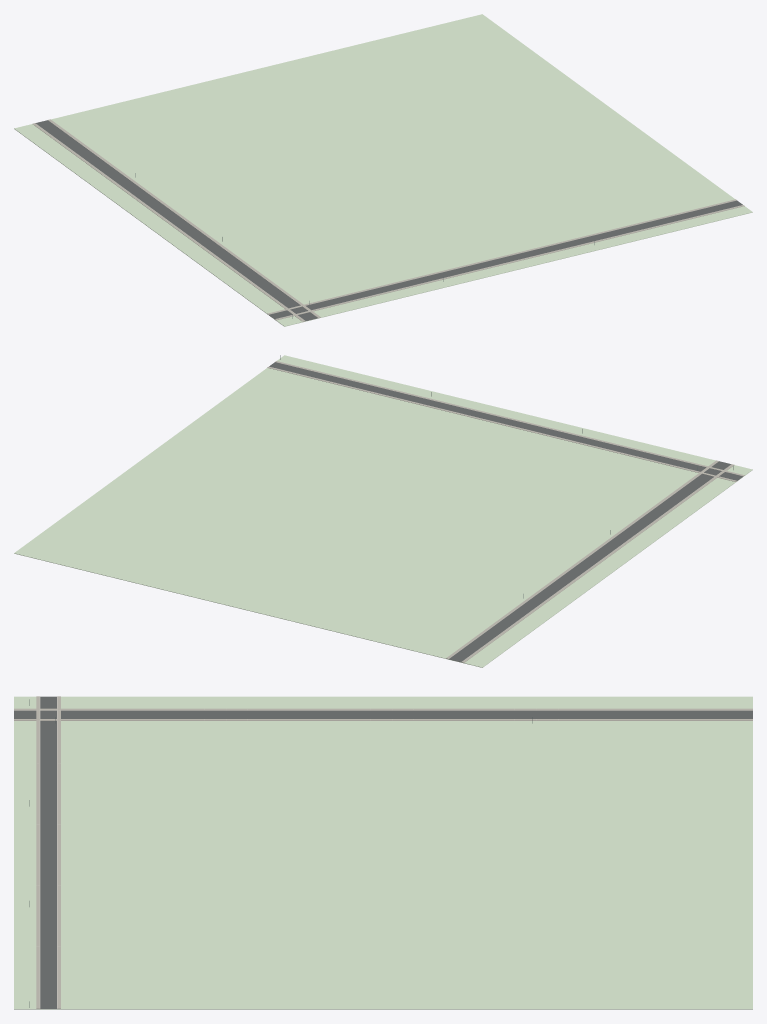
Rendered from chunk_4_5_low.glb.
The picture shows the model from 3 angles, top to bottom: view 1: azimuth 30°, elevation 25°; view 2: azimuth 150°, elevation 25°; view 3: azimuth 270°, elevation 25°; orthographic projection. The views are drawn at different scales.
Parts seen in each view (by area): view 1: city_grass, city_world_asphalt, city_world_sidewalk, city_curb; view 2: city_grass, city_world_asphalt, city_world_sidewalk, city_curb; view 3: city_grass, city_world_asphalt, city_world_sidewalk, city_curb.
Part boxes in pixels (x1,y1,x2,y2): city_grass: (14, 14, 752, 326); city_world_asphalt: (35, 120, 742, 320); city_world_sidewalk: (32, 119, 744, 321); city_curb: (35, 120, 742, 320); city_grass: (14, 355, 752, 667); city_world_asphalt: (269, 362, 742, 661); city_world_sidewalk: (267, 361, 744, 662); city_curb: (269, 362, 742, 661); city_grass: (14, 696, 752, 1009); city_world_asphalt: (14, 696, 752, 1008); city_world_sidewalk: (14, 696, 752, 1008); city_curb: (14, 696, 752, 1008).
Bounding box in the file's own units: 512 × 5.41 × 512.
